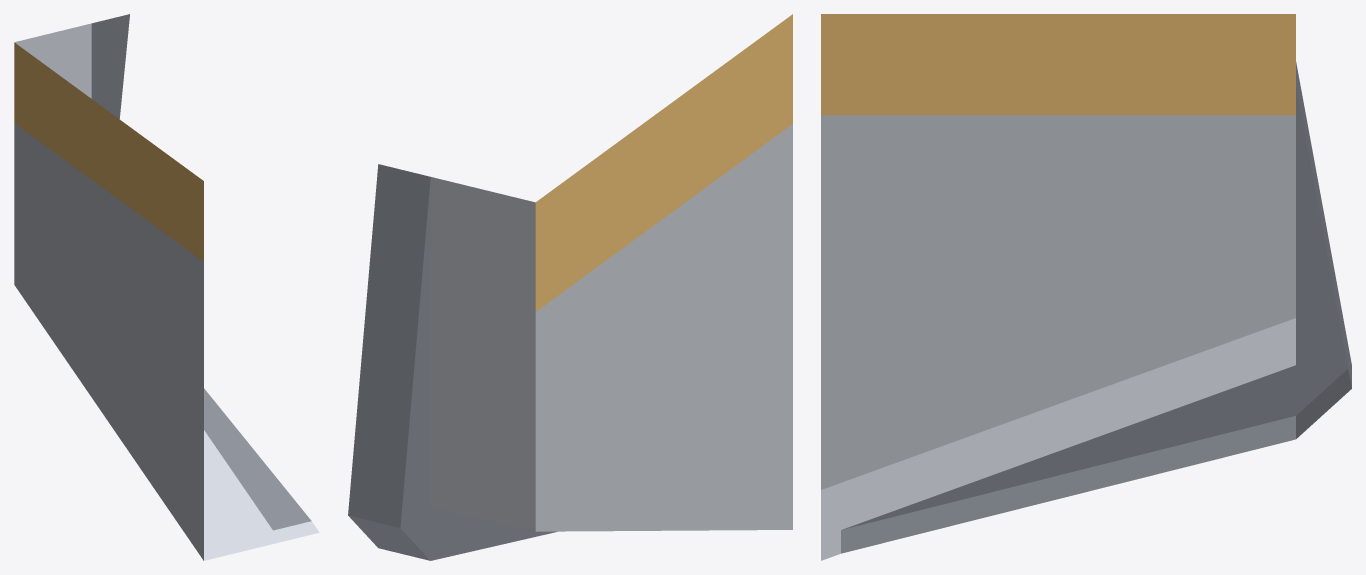
The picture shows the model from 3 angles, left to right: view 1: azimuth 30°, elevation 25°; view 2: azimuth 150°, elevation 25°; view 3: azimuth 270°, elevation 25°; orthographic projection. The views are drawn at different scales.
Size of the model in its own units: 0.3 by 0.94 by 0.95.
